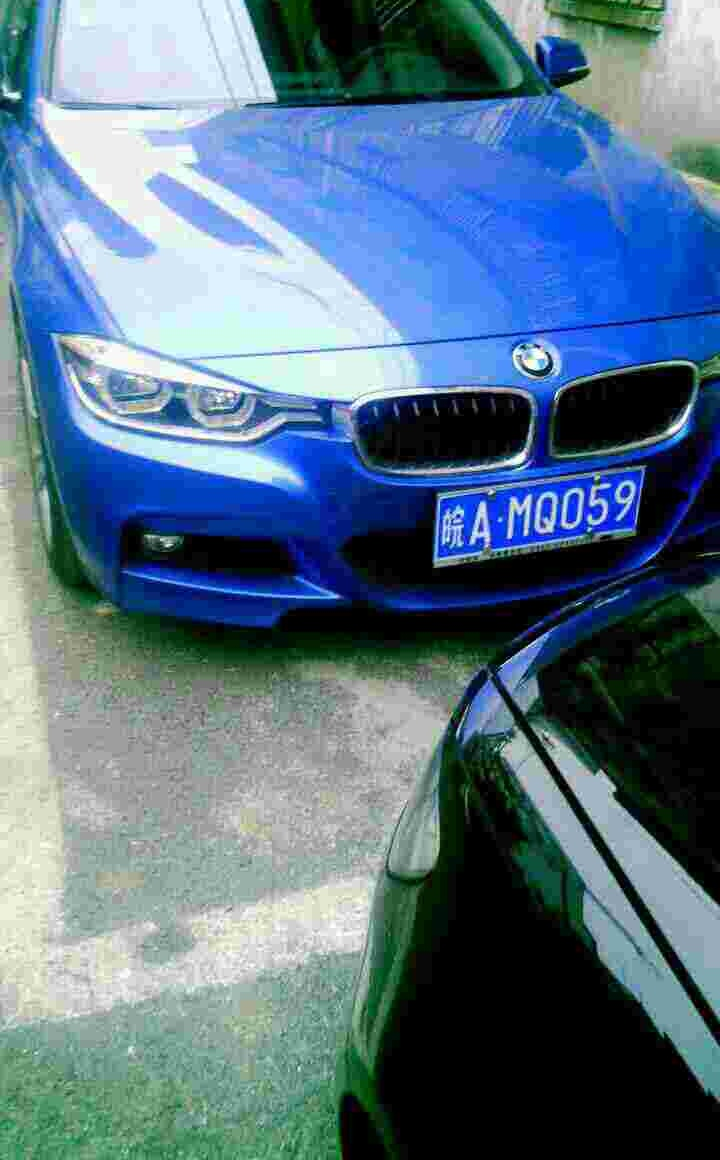car: (426, 491, 648, 561)
